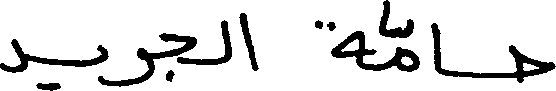ا: (238, 10, 259, 71), (427, 20, 441, 75)
ة: (312, 19, 361, 69)
ج: (159, 31, 196, 83)
ح: (506, 43, 554, 83)
د: (0, 37, 28, 73)
ر: (107, 46, 155, 87)
ل: (222, 17, 232, 63)
م: (389, 42, 420, 72)
ي: (34, 43, 108, 90)
